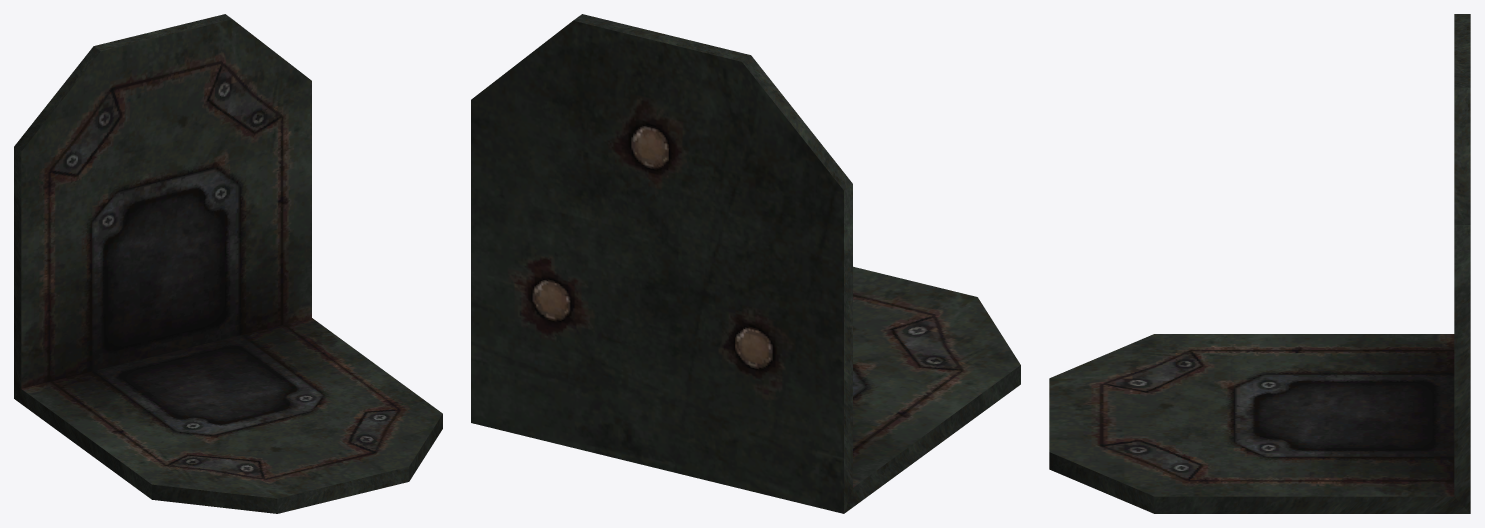
Rendered from angle_iron.dae.
The picture shows the model from 3 angles, left to right: view 1: azimuth 30°, elevation 25°; view 2: azimuth 150°, elevation 25°; view 3: azimuth 270°, elevation 25°; orthographic projection. The views are drawn at different scales.
Parts seen in each view (by area): view 1: polySurface19; view 2: polySurface19; view 3: polySurface19.
Part boxes in pixels (x1=…): polySurface19: x1=14, y1=14, x2=442, y2=513; polySurface19: x1=471, y1=14, x2=1020, y2=513; polySurface19: x1=1049, y1=14, x2=1470, y2=513.
Size of the model in its own units: 0.1875 by 0.2053 by 0.2053.
